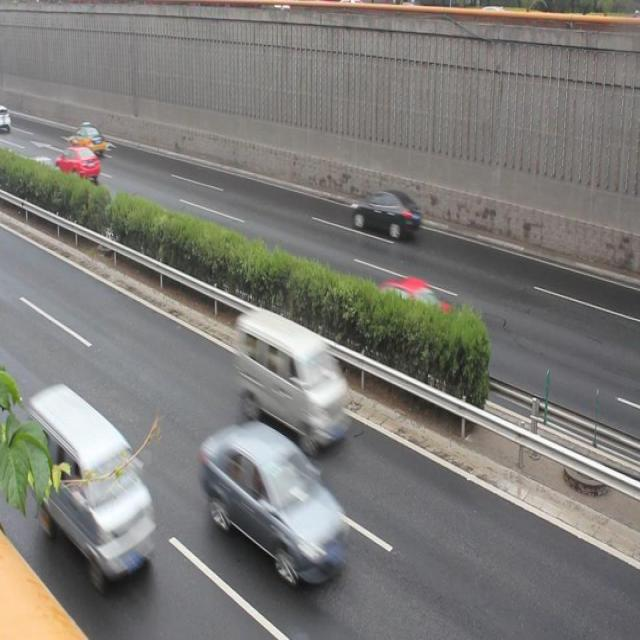car: (202, 426, 348, 575), (343, 274, 456, 358), (350, 186, 416, 236), (54, 147, 100, 180), (66, 122, 105, 154)
truck: (28, 387, 156, 575), (235, 306, 351, 442)
